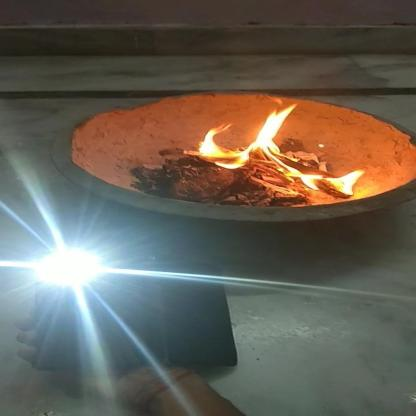fire: (191, 100, 367, 196)
